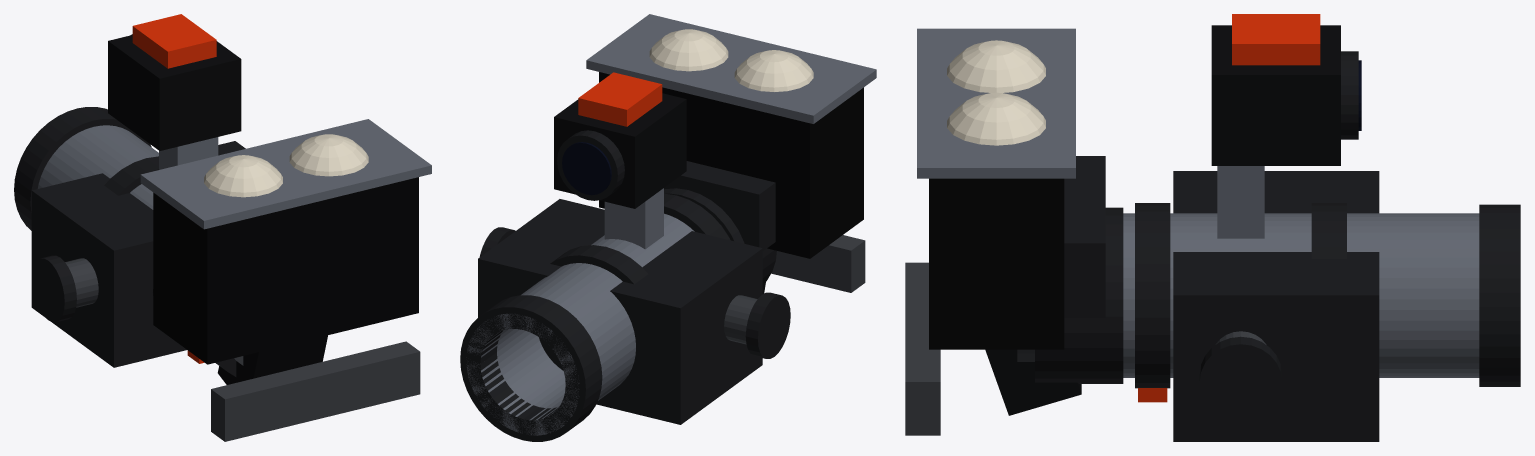
Rendered from pitch_link.dae.
3 views of the same model, side by side, from view 1: azimuth 30°, elevation 25°; view 2: azimuth 150°, elevation 25°; view 3: azimuth 270°, elevation 25° (orthographic). The views are drawn at different scales.
Parts seen in each view (by area): view 1: pitch_link; view 2: pitch_link; view 3: pitch_link.
Part boxes in pixels (x1,y1,x2,y2): pitch_link: (14,14,431,441); pitch_link: (460,14,876,441); pitch_link: (905,14,1520,441).
Size of the model in its own units: 0.138 by 0.209 by 0.1371.
